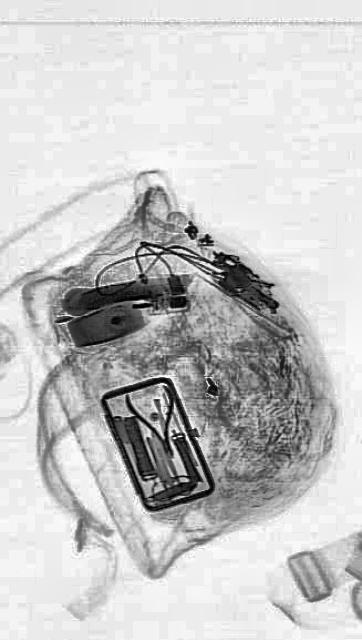Pliers: (122, 364, 186, 474)
